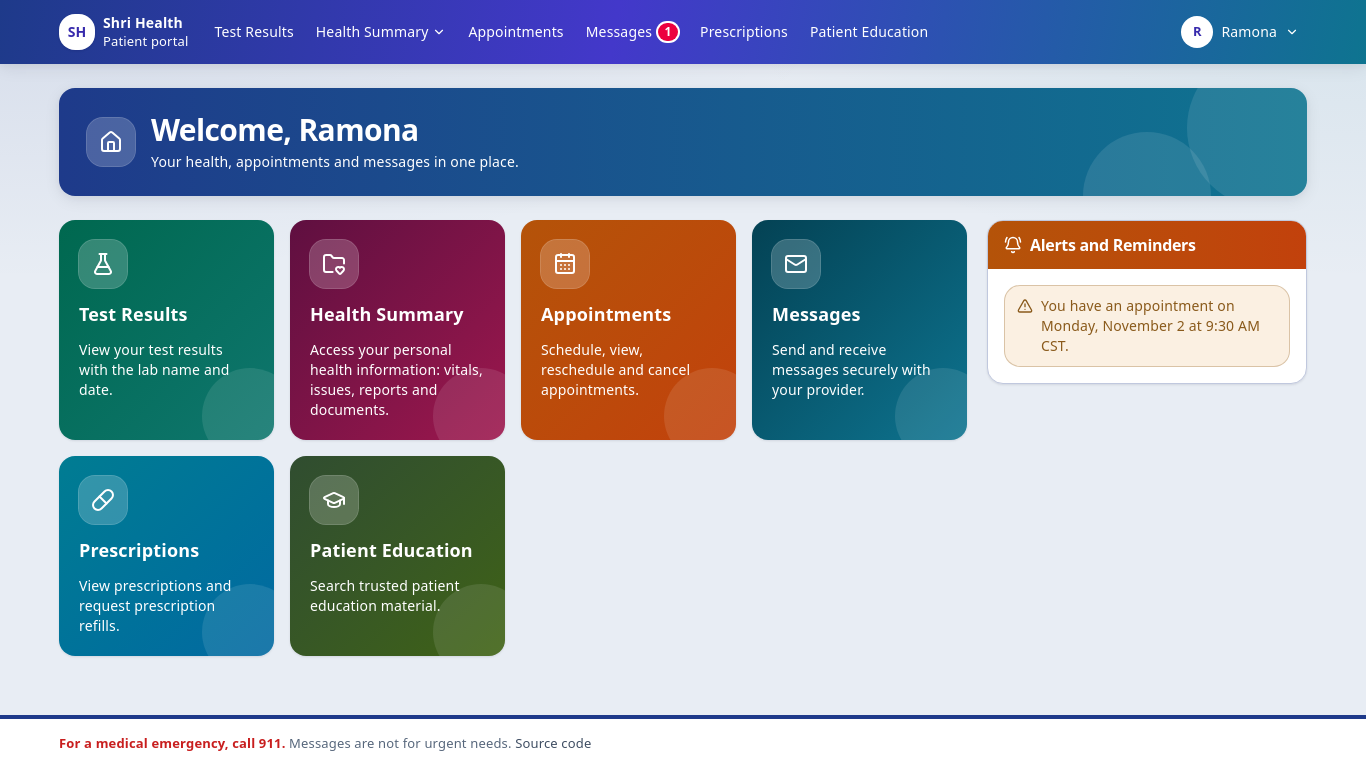
home and menus › keeps Pay bills, Video and Immunizations hidden until their contracts exist
This screenshot has width=1366, height=768.
Expected: the element "Alerts and Reminders" is shown, [987, 220, 1307, 384]
What coordinates should you click on to do the following:
click the button "Health Summary"
I would click on:
 (381, 32)
Its box is [306, 10, 456, 54].
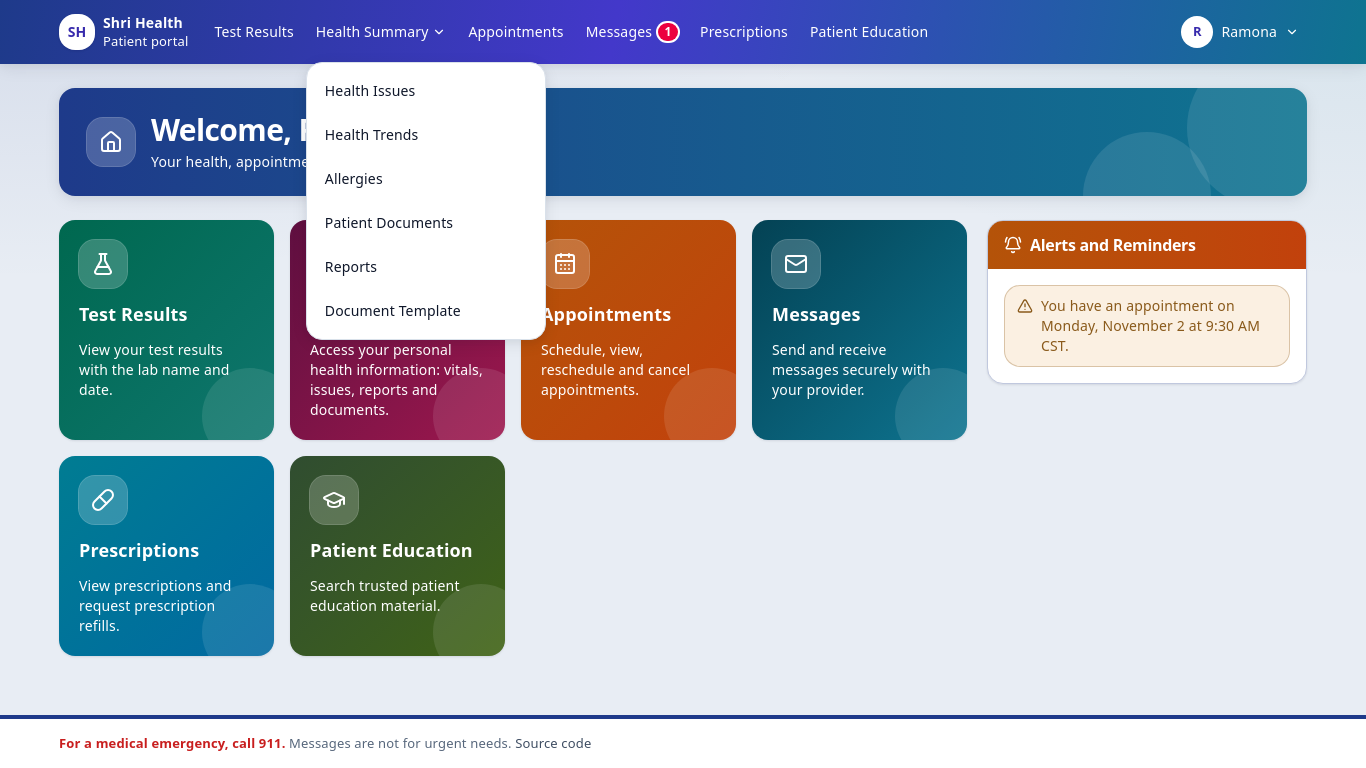
Now the links read "Health Issues", "Health Trends", "Allergies", "Patient Documents", "Reports", "Document Template", in this order, box [325, 81, 415, 100]; [325, 125, 418, 144]; [325, 169, 383, 188]; [325, 213, 453, 232]; [325, 257, 377, 276]; [325, 301, 461, 320]
